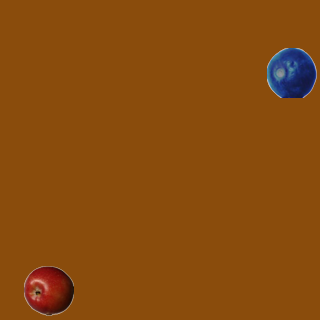Apple Braeburn: (23, 265, 73, 315)
Huckleberry: (266, 47, 316, 97)
